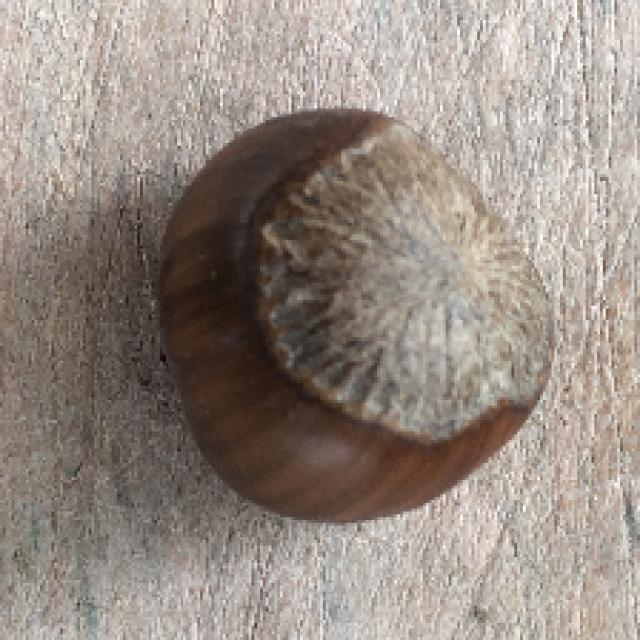damagedHazelnut: (148, 100, 567, 542)
